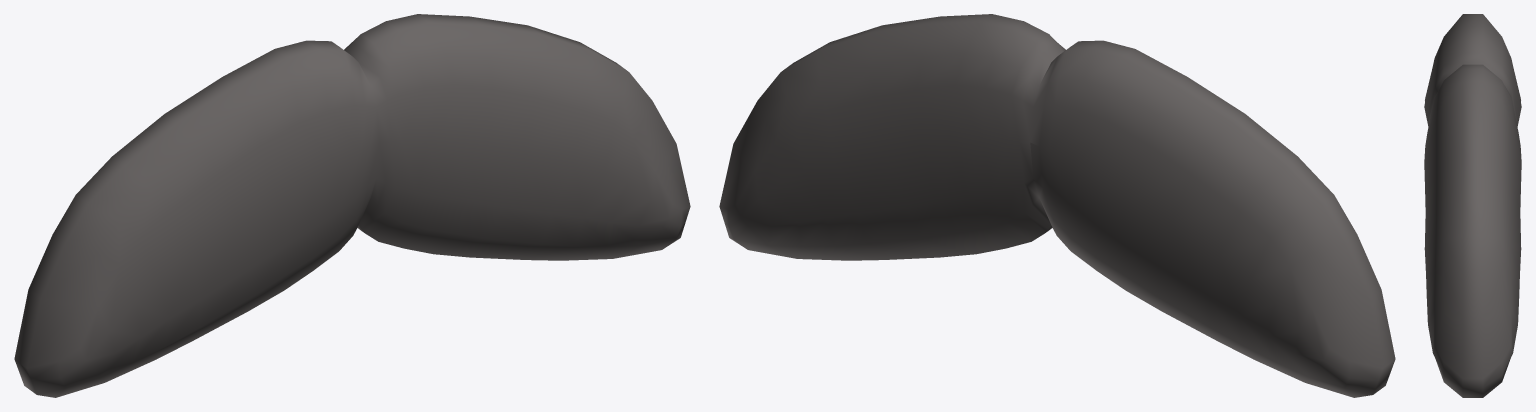
Rendered from Beard_01_04.fbx.
3 views of the same model, side by side, from view 1: azimuth 30°, elevation 25°; view 2: azimuth 150°, elevation 25°; view 3: azimuth 270°, elevation 25° (orthographic). The views are drawn at different scales.
Visible parts, largest first — view 1: Beard_01_04; view 2: Beard_01_04; view 3: Beard_01_04.
Part boxes in pixels (x1,y1,x2,y2): Beard_01_04: (14,14,690,397); Beard_01_04: (719,14,1395,397); Beard_01_04: (1424,14,1521,397).
Bounding box in the file's own units: 15.94 × 6.52 × 2.55.
